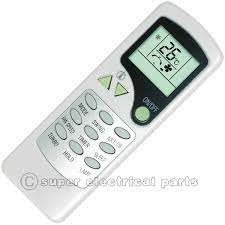remote control: (4, 4, 225, 225)
